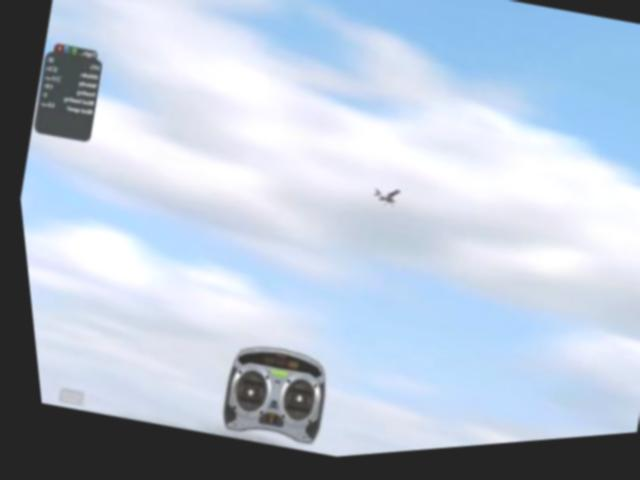uav: (361, 185, 403, 220)
